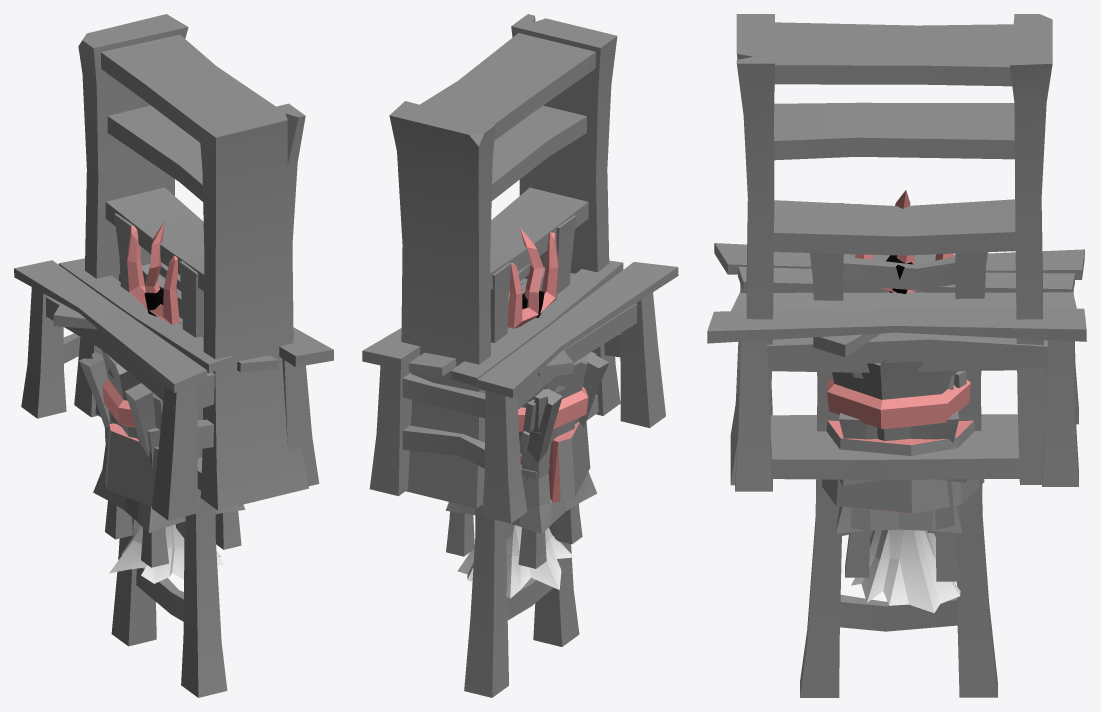
File: WoodFurniture.fbx
The picture shows the model from 3 angles, left to right: view 1: azimuth 30°, elevation 25°; view 2: azimuth 150°, elevation 25°; view 3: azimuth 270°, elevation 25°; orthographic projection. The views are drawn at different scales.
Parts seen in each view (by area): view 1: SM_Shelf, SM_Desk, SM_Ladder, SM_Chair, SM_WoodSlice04, SM_Pitchfork, SM_Broom, SM_Crate, SM_Bucket; view 2: SM_Shelf, SM_Desk, SM_Ladder, SM_Chair, SM_Crate, SM_Pitchfork, SM_Broom, SM_WoodSlice04, SM_Bucket; view 3: SM_Shelf, SM_Desk, SM_Ladder, SM_Bucket, SM_WoodSlice04, SM_Broom, SM_Crate, SM_Chair, SM_Pitchfork.
Part boxes in pixels (<box>): SM_Shelf: <box>74,14,308,510</box>; SM_Desk: <box>14,258,333,520</box>; SM_Ladder: <box>111,213,227,697</box>; SM_Chair: <box>79,352,241,567</box>; SM_WoodSlice04: <box>105,423,201,507</box>; SM_Pitchfork: <box>127,221,179,324</box>; SM_Broom: <box>109,288,223,583</box>; SM_Crate: <box>93,410,245,532</box>; SM_Bucket: <box>101,350,157,438</box>; SM_Shelf: <box>389,14,620,508</box>; SM_Desk: <box>362,260,678,523</box>; SM_Ladder: <box>464,215,579,697</box>; SM_Chair: <box>446,352,609,568</box>; SM_Crate: <box>446,418,597,533</box>; SM_Pitchfork: <box>507,228,558,328</box>; SM_Broom: <box>457,289,574,598</box>; SM_WoodSlice04: <box>481,421,590,506</box>; SM_Bucket: <box>517,355,588,463</box>; SM_Shelf: <box>730,14,1052,485</box>; SM_Desk: <box>707,243,1086,491</box>; SM_Ladder: <box>800,203,997,697</box>; SM_Bucket: <box>827,359,970,440</box>; SM_WoodSlice04: <box>822,420,984,513</box>; SM_Broom: <box>851,255,960,612</box>; SM_Crate: <box>836,411,962,533</box>; SM_Chair: <box>839,479,966,581</box>; SM_Pitchfork: <box>855,190,953,292</box>.
Bounding box in the file's own units: 156 × 517 × 269.
